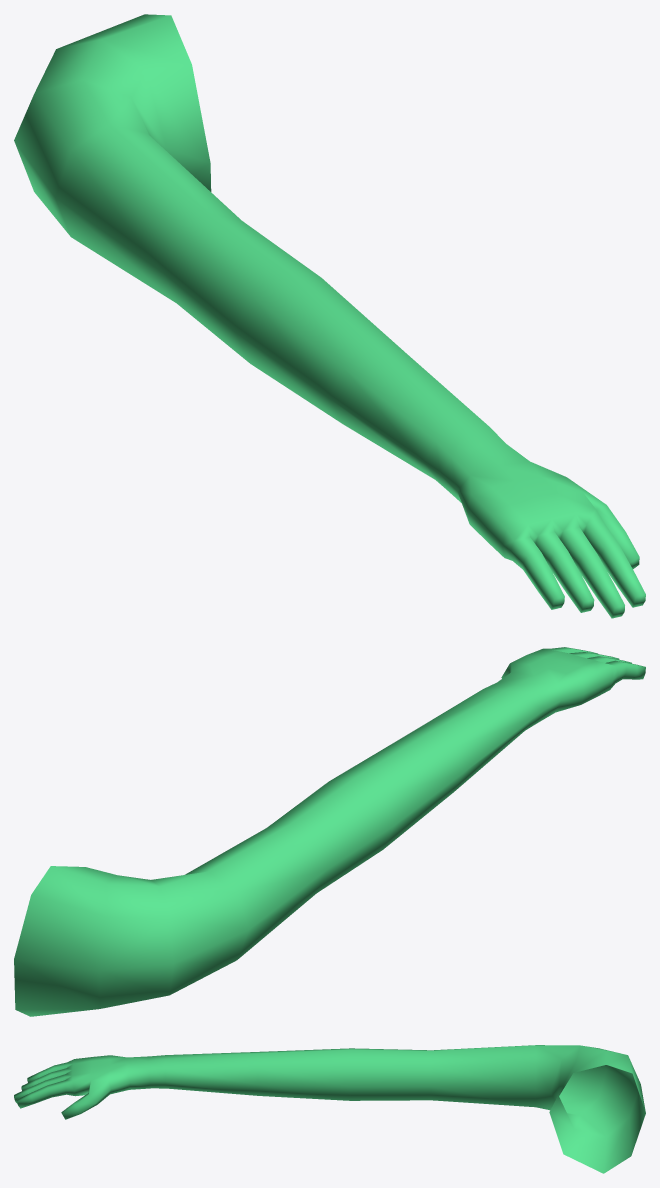
Rendered from NM_zombie_rightarm.obj.
3 views of the same model, one above another, from view 1: azimuth 30°, elevation 25°; view 2: azimuth 150°, elevation 25°; view 3: azimuth 270°, elevation 25° (orthographic). The views are drawn at different scales.
Visible parts, largest first — view 1: Cylinder001; view 2: Cylinder001; view 3: Cylinder001.
Part boxes in pixels (x1,y1,x2,y2): Cylinder001: [14, 14, 645, 618]; Cylinder001: [14, 647, 645, 1016]; Cylinder001: [14, 1045, 645, 1173].
Size of the model in its own units: 5.59 by 4.84 by 27.16.
